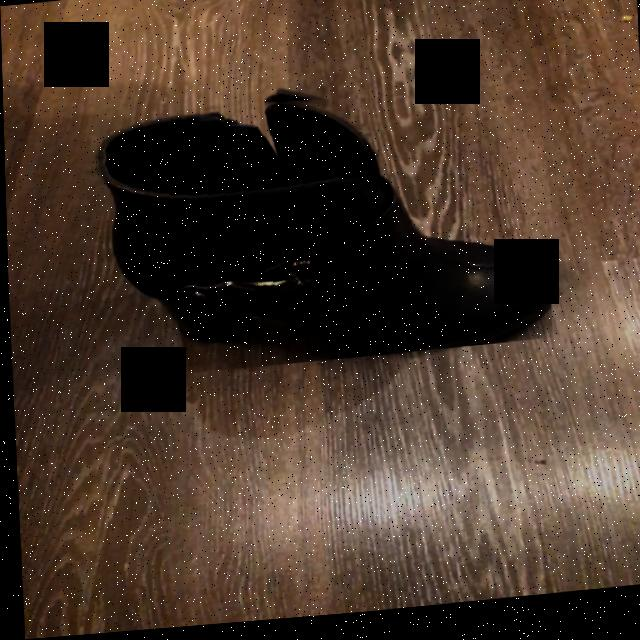shoe: (95, 103, 549, 363)
